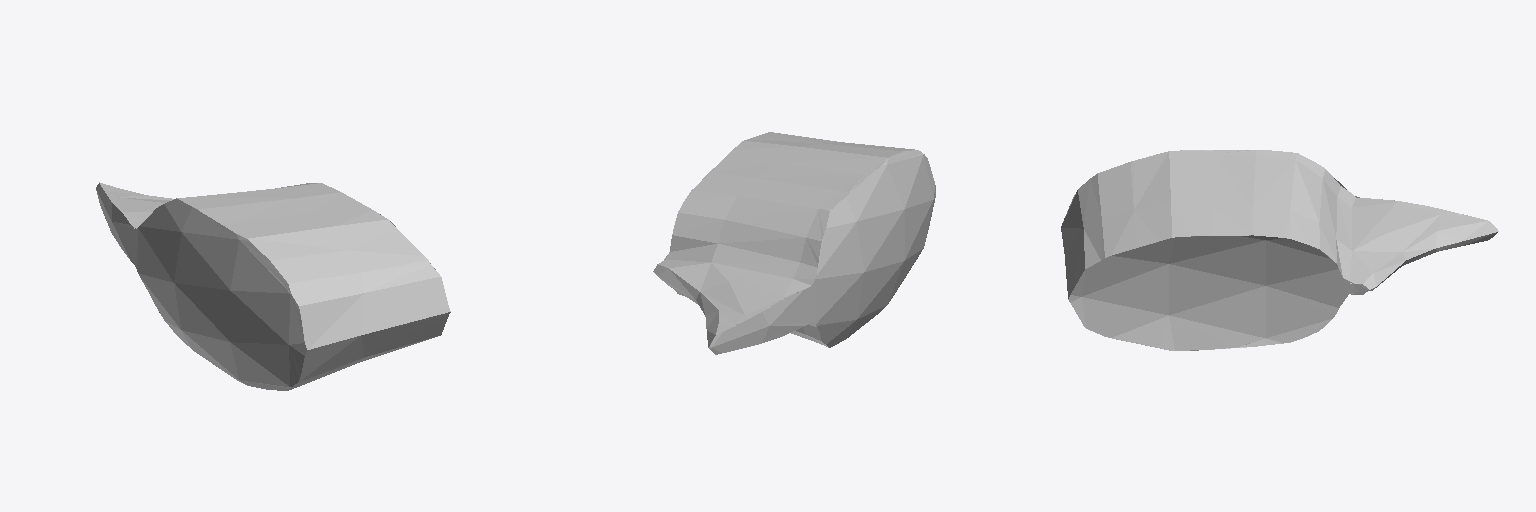
3 views of the same model, side by side, from view 1: azimuth 30°, elevation 25°; view 2: azimuth 150°, elevation 25°; view 3: azimuth 270°, elevation 25° (orthographic).
Visible parts, largest first — view 1: joint_10; view 2: joint_10; view 3: joint_10.
Part boxes in pixels (left/top/right/bottom): joint_10: left=96, top=182, right=450, bottom=390; joint_10: left=653, top=132, right=935, bottom=354; joint_10: left=1061, top=150, right=1498, bottom=350.
Size of the model in its own units: 0.0012 by 0.0009 by 0.0025.